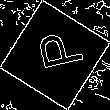P_W: (26, 31, 84, 79)
